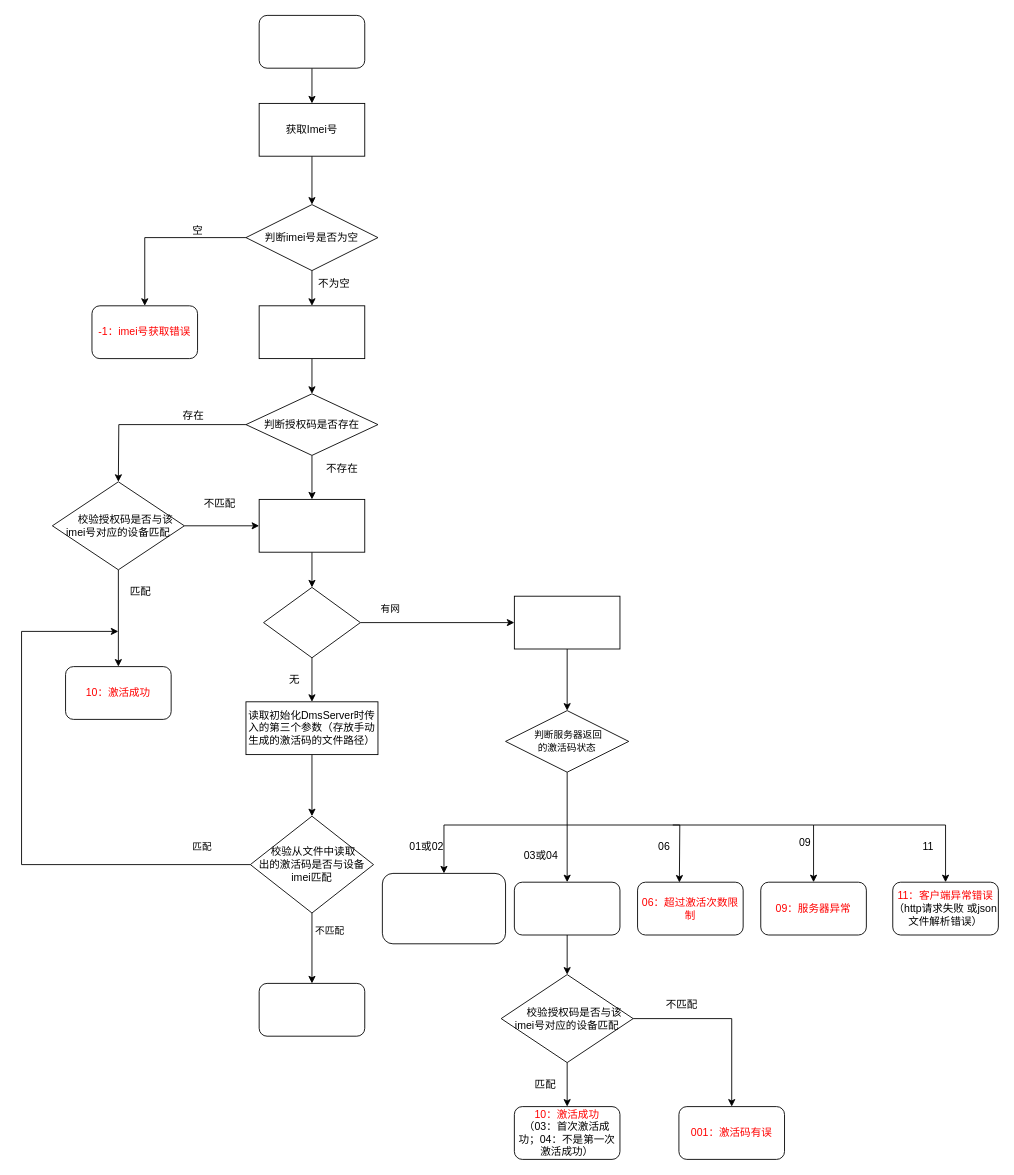
Some shapes in this 1014 by 1175 pixel diagram are drawn without their labels. The box of each missing label's shape, as (x1, y1, x2, y2) in pixels:
0102：未经授权激活失败 （01：deptid或imei号为空，02：设备未在平台录入）: (381, 873, 506, 944)
05：网络状态不可用且激活码有误: (258, 983, 365, 1036)
Dms激活: (258, 15, 365, 68)
判断是否有网络: (263, 587, 360, 658)
将deptid,imei，productID作为参数传给服务器: (513, 595, 620, 649)
获取应用缓存数据中的授权码: (258, 305, 365, 359)
获取网络状态: (258, 499, 365, 552)
获得服务器返回的授权码: (513, 881, 620, 935)
